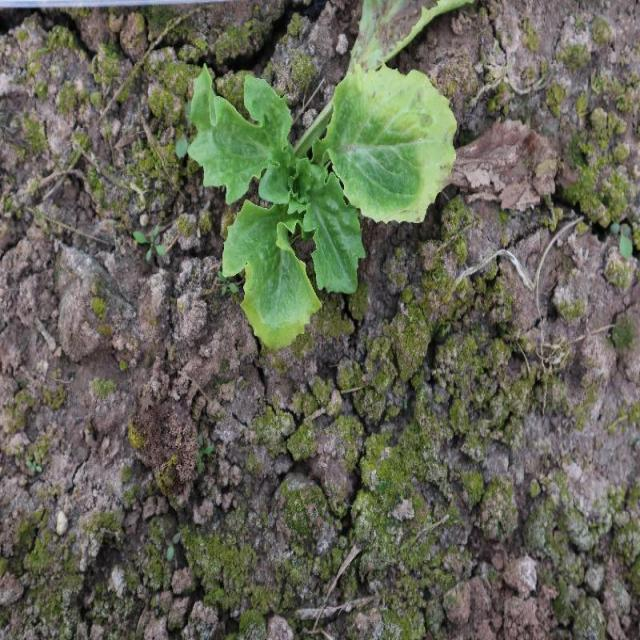crop: (176, 64, 458, 353)
